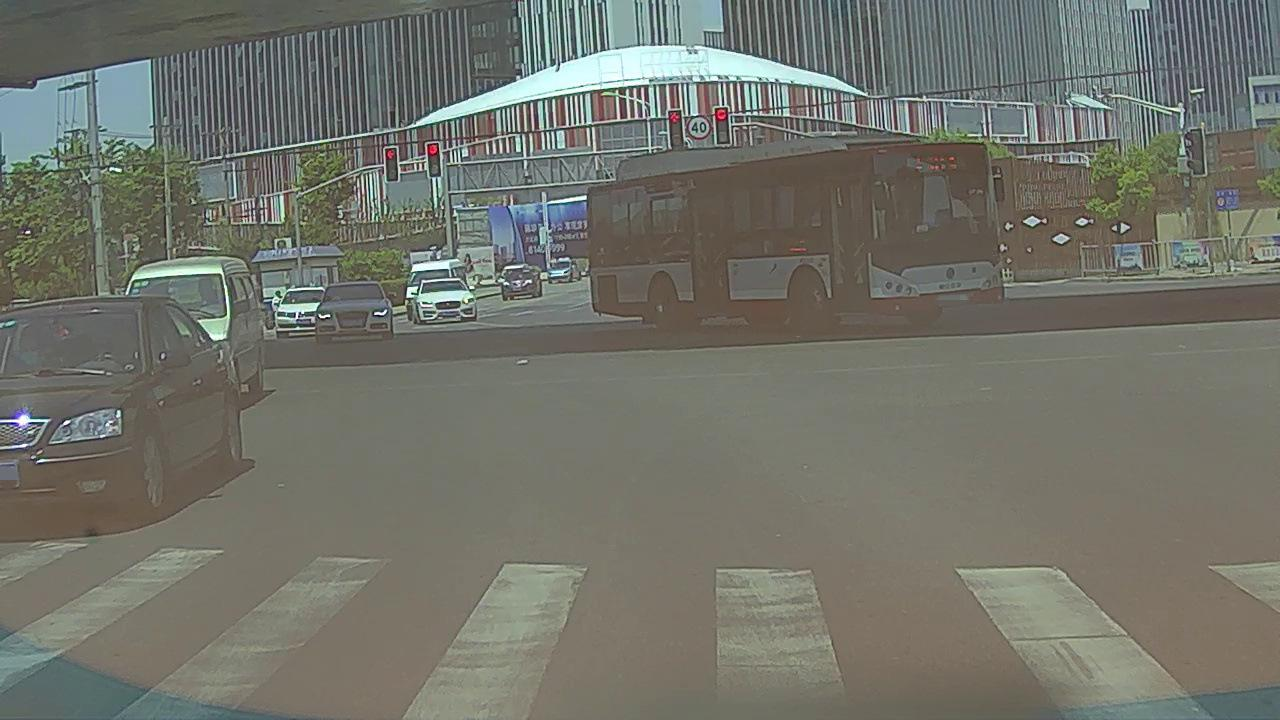traffic_light: (714, 107, 729, 145), (669, 110, 684, 147), (426, 144, 441, 176), (386, 148, 399, 181)
